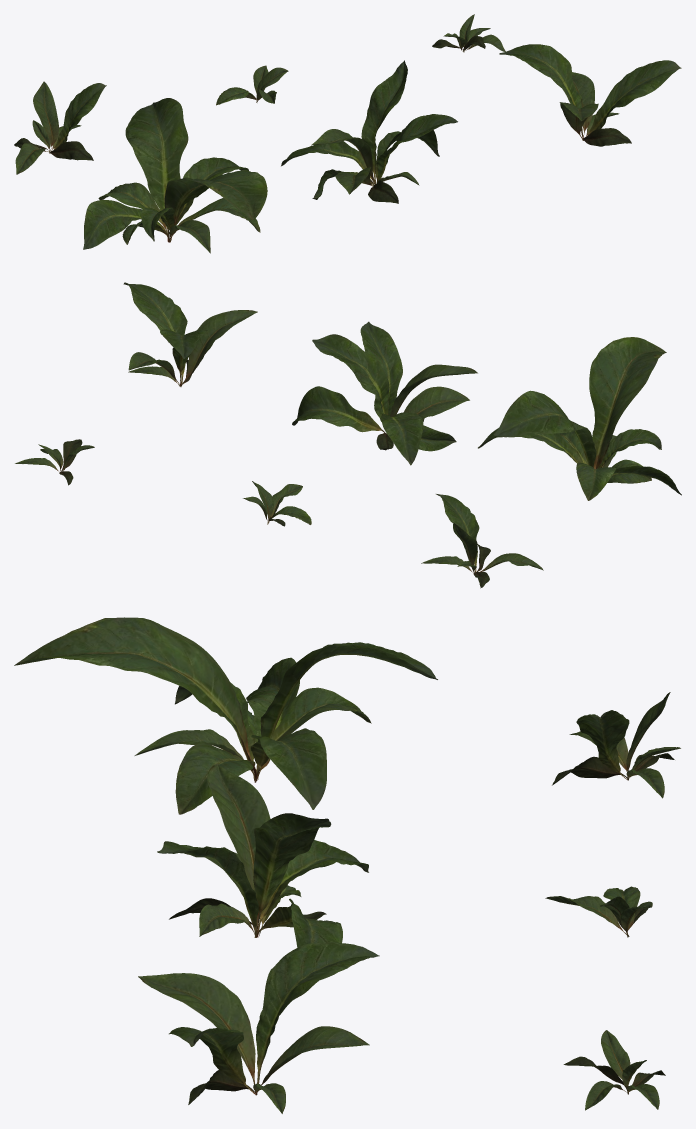
The model's file is anthurium_botany_01.gltf.
3 renders of one model, top to bottom at view 1: azimuth 30°, elevation 25°; view 2: azimuth 150°, elevation 25°; view 3: azimuth 270°, elevation 25°, orthographic. The views are drawn at different scales.
Parts seen in each view (by area): view 1: anthurium_botany_01_a, anthurium_botany_01_b, anthurium_botany_01_c, anthurium_botany_04_d, anthurium_botany_05_e, anthurium_botany_06_f; view 2: anthurium_botany_01_a, anthurium_botany_01_b, anthurium_botany_01_c, anthurium_botany_04_d, anthurium_botany_05_e, anthurium_botany_06_f; view 3: anthurium_botany_01_a, anthurium_botany_01_b, anthurium_botany_01_c, anthurium_botany_04_d, anthurium_botany_06_f, anthurium_botany_05_e.
Part boxes in pixels (x1,y1,x2,y2): anthurium_botany_01_a: (83,98,267,253); anthurium_botany_01_b: (281,60,457,203); anthurium_botany_01_c: (499,44,681,146); anthurium_botany_04_d: (14,81,106,174); anthurium_botany_05_e: (216,65,288,105); anthurium_botany_06_f: (432,14,505,52); anthurium_botany_01_a: (478,337,681,500); anthurium_botany_01_b: (292,321,477,465); anthurium_botany_01_c: (123,282,257,386); anthurium_botany_04_d: (421,494,543,588); anthurium_botany_05_e: (243,481,311,526); anthurium_botany_06_f: (15,439,94,485); anthurium_botany_01_a: (14,617,437,814); anthurium_botany_01_b: (157,763,368,981); anthurium_botany_01_c: (138,942,379,1113); anthurium_botany_04_d: (552,692,680,798); anthurium_botany_06_f: (563,1030,665,1110); anthurium_botany_05_e: (545,886,652,937).
Bounding box in the file's own units: 2.8 × 0.4997 × 1.8.
1 material, 1 textured.
